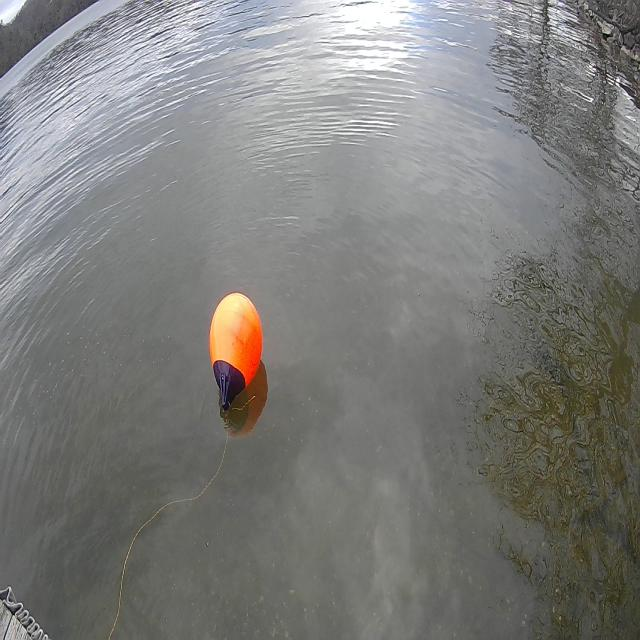Buoy: (209, 288, 266, 415)
